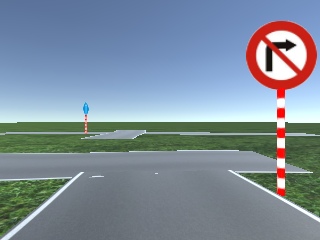5: (1, 199, 320, 239)
NoRight: (246, 21, 317, 89)
